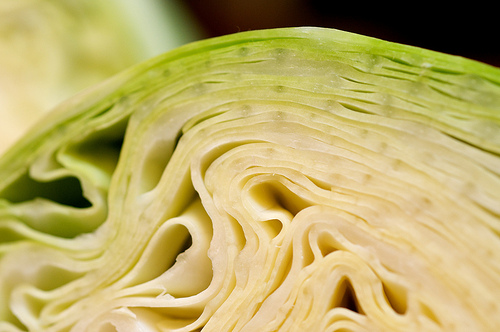cabbage: (0, 27, 499, 330)
